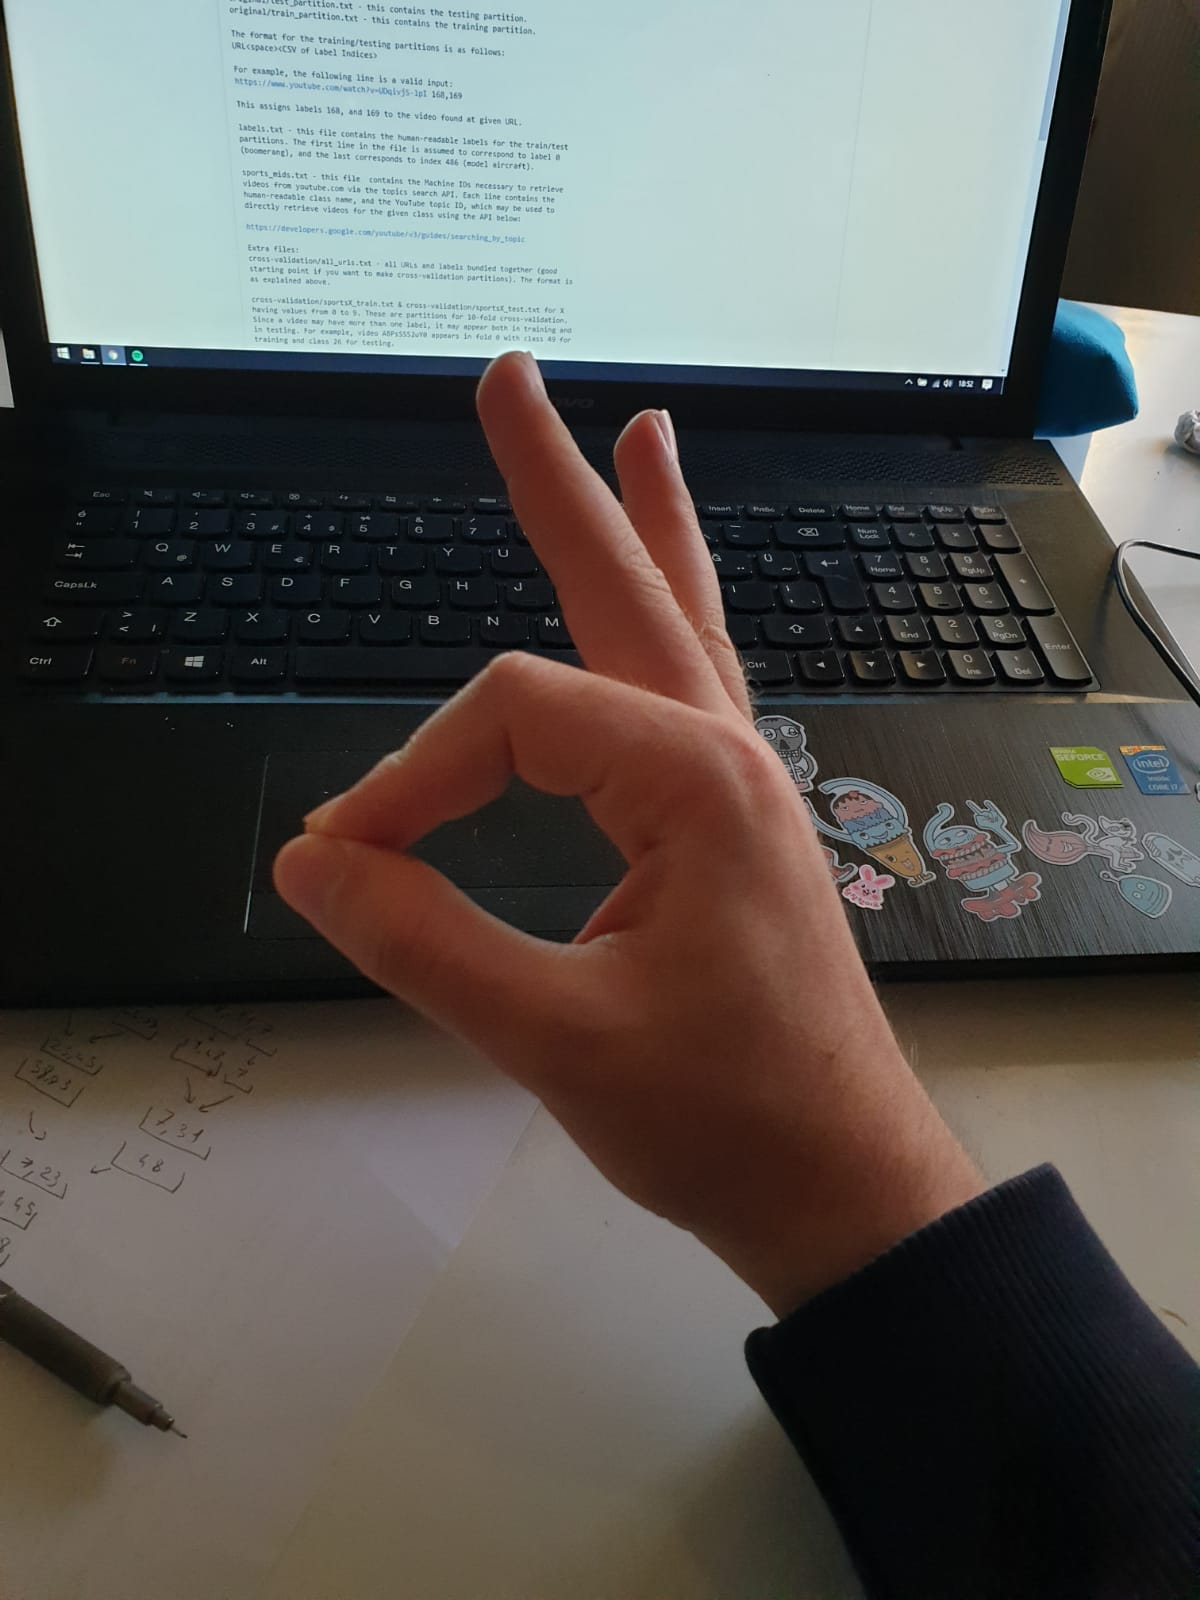OK: (274, 348, 996, 1311)
